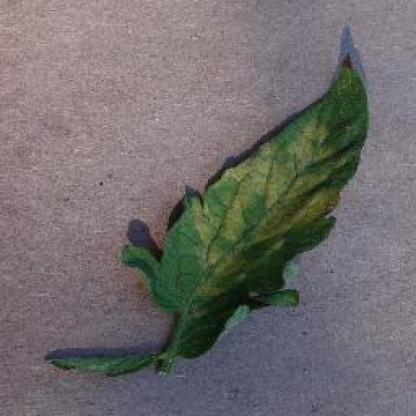Tomato_Leaf_Mold: (120, 50, 368, 358)
